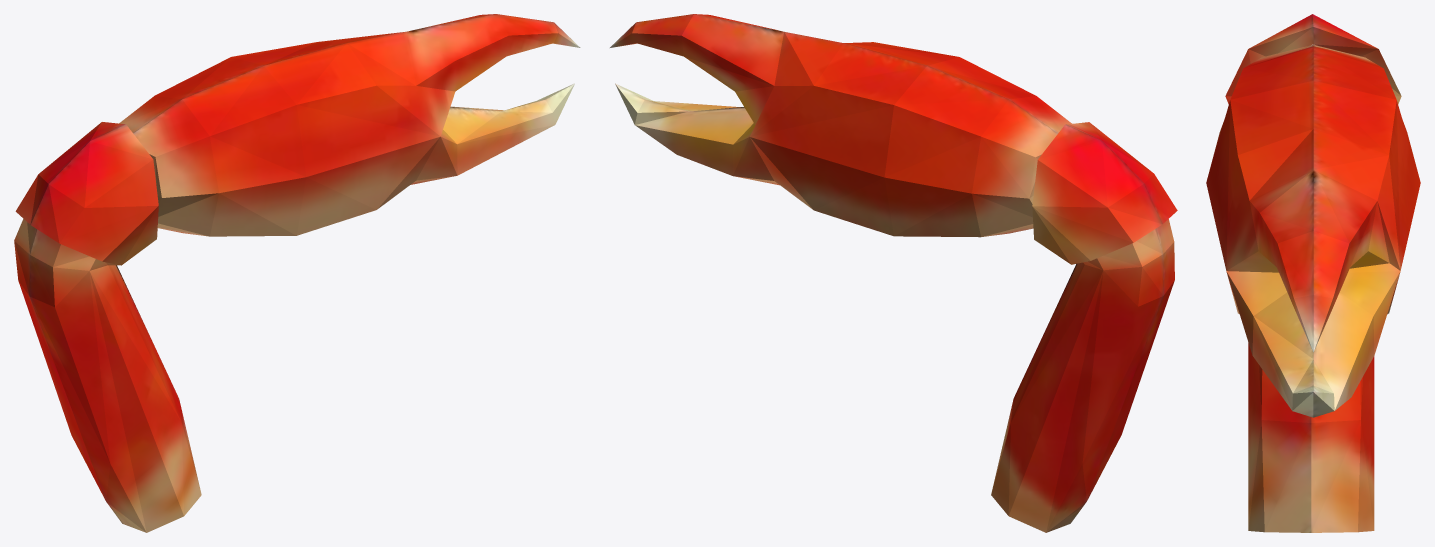
Rendered from animals-crab-hand-050.glb.
3 views of the same model, side by side, from view 1: azimuth 30°, elevation 25°; view 2: azimuth 150°, elevation 25°; view 3: azimuth 270°, elevation 25° (orthographic). The views are drawn at different scales.
Parts seen in each view (by area): view 1: Node; view 2: Node; view 3: Node.
Boxes of the visible parts, left/top/right/bottom form: Node: left=14, top=14, right=580, bottom=532; Node: left=610, top=14, right=1177, bottom=532; Node: left=1206, top=14, right=1420, bottom=532.
Bounding box in the file's own units: 3.48 × 2.56 × 0.9232.
Materials: 1 (1 with a texture image).
